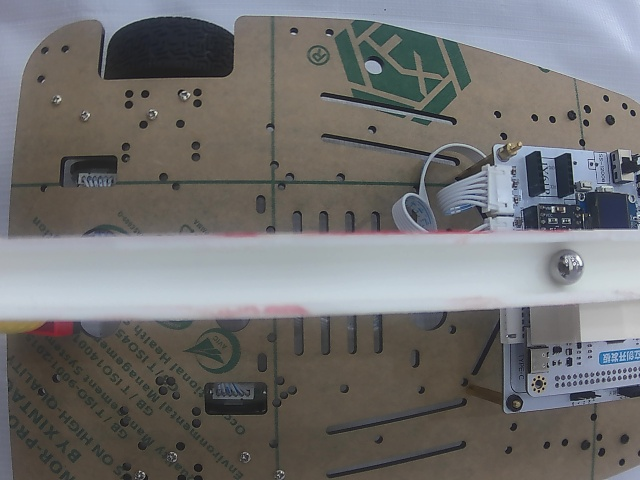steelball: (549, 249, 584, 284)
